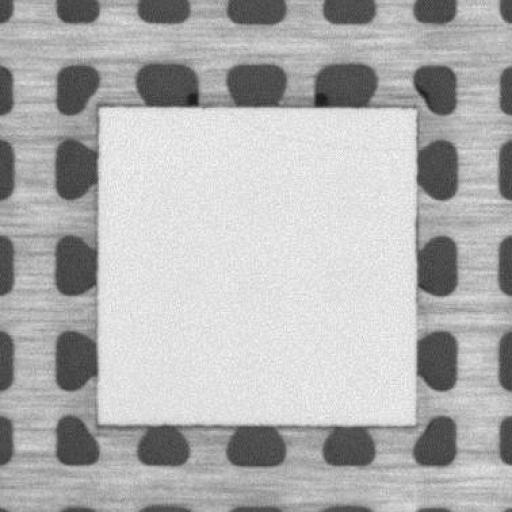DIE_CRACK: (224, 104, 414, 155)
